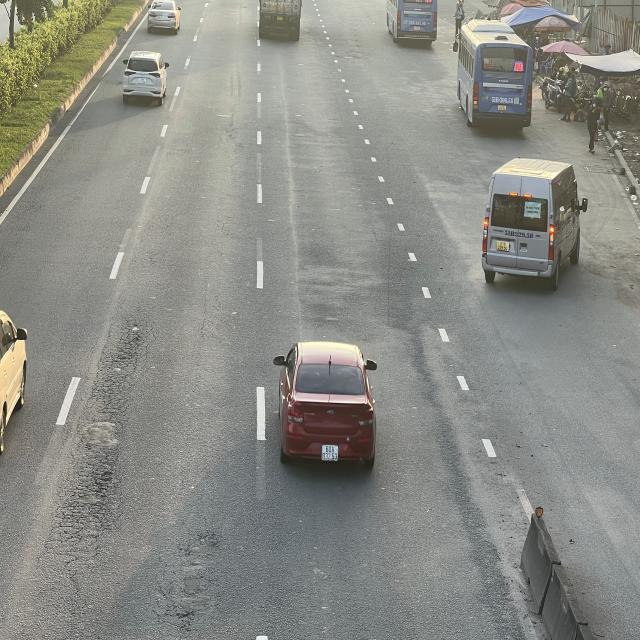car: (274, 343, 380, 474), (122, 52, 170, 102), (149, 1, 183, 34)
coach: (454, 20, 534, 128), (387, 0, 440, 43)
van: (485, 159, 589, 287)
